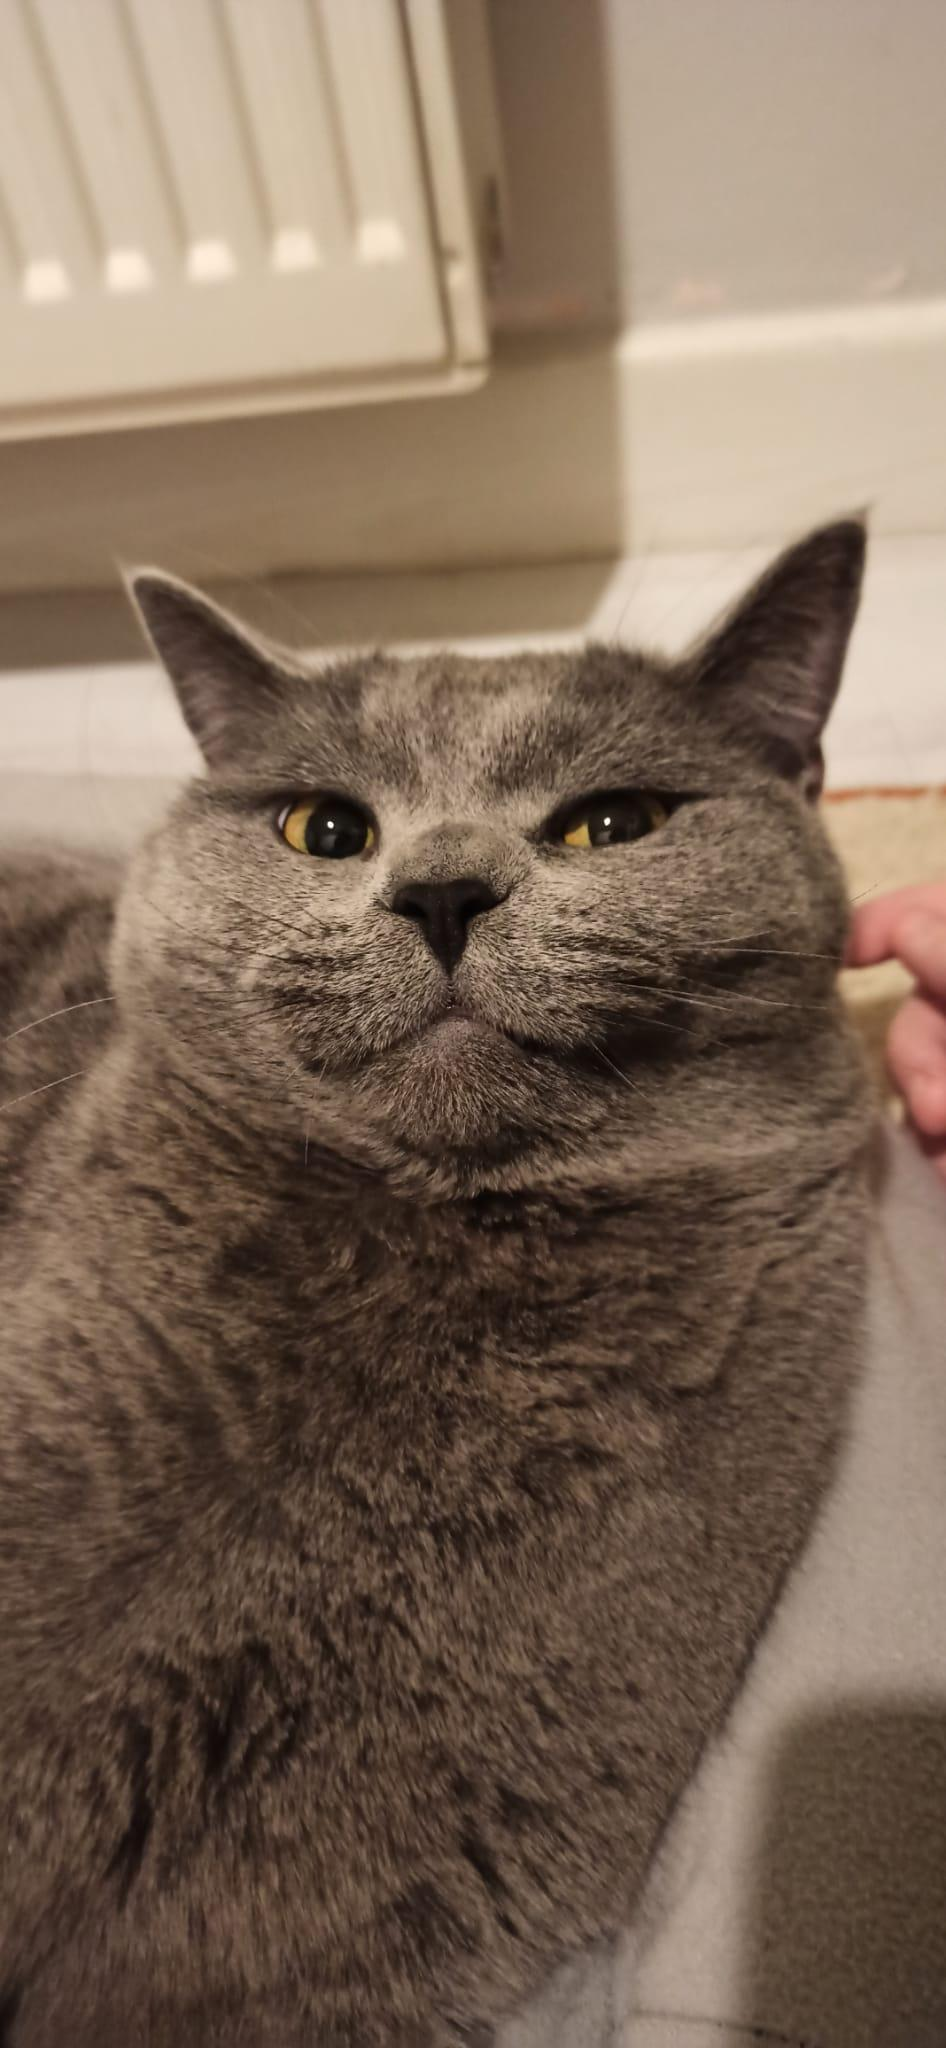kedo: (0, 517, 878, 2048)
